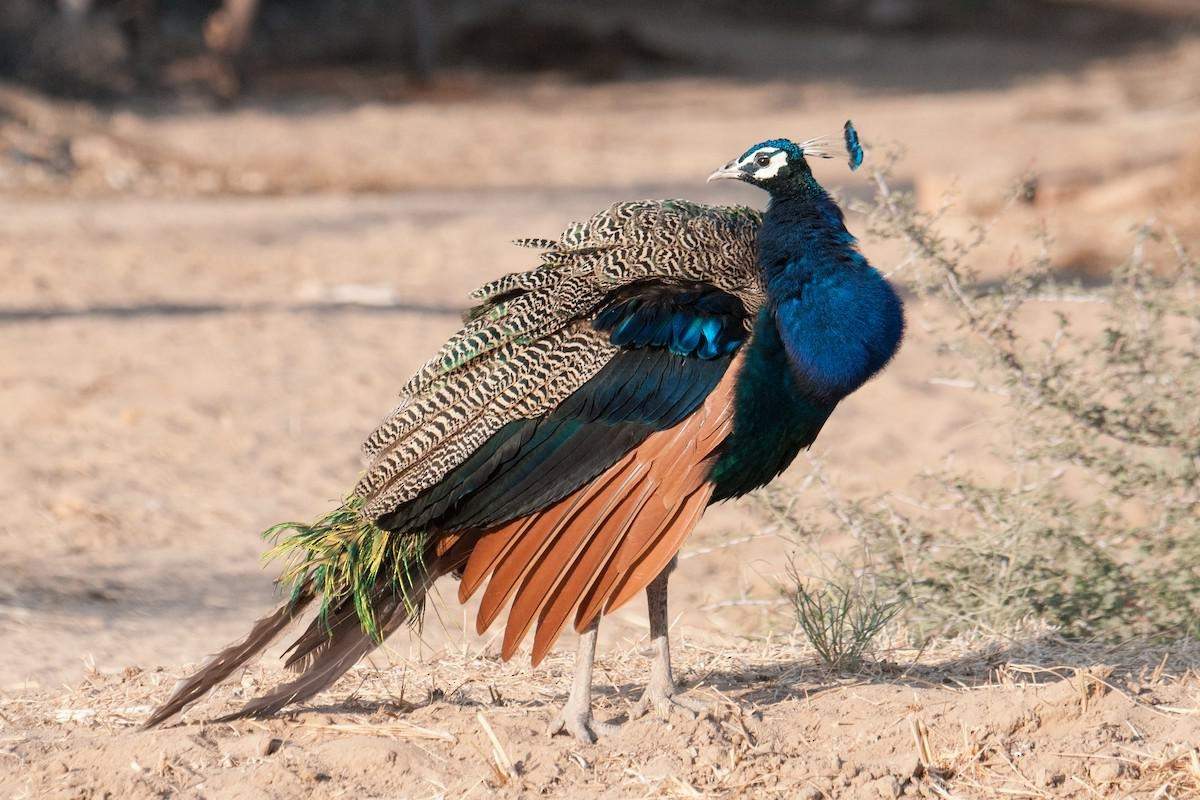peacock: (111, 104, 929, 722)
